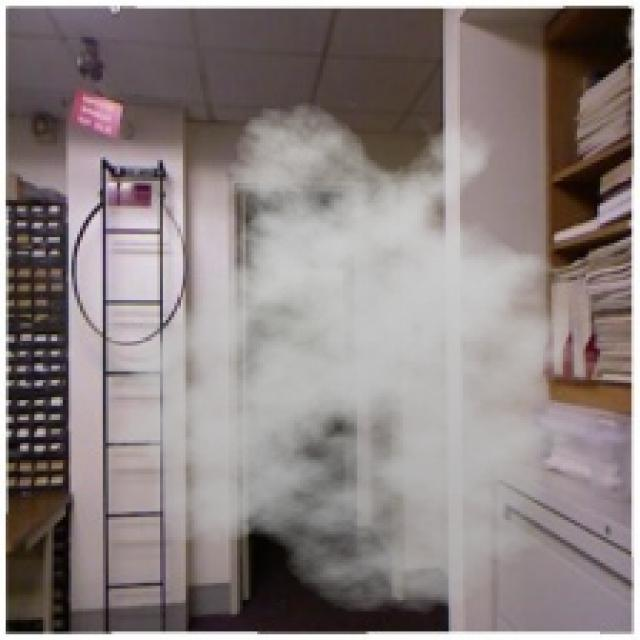smoke: (94, 100, 637, 614)
